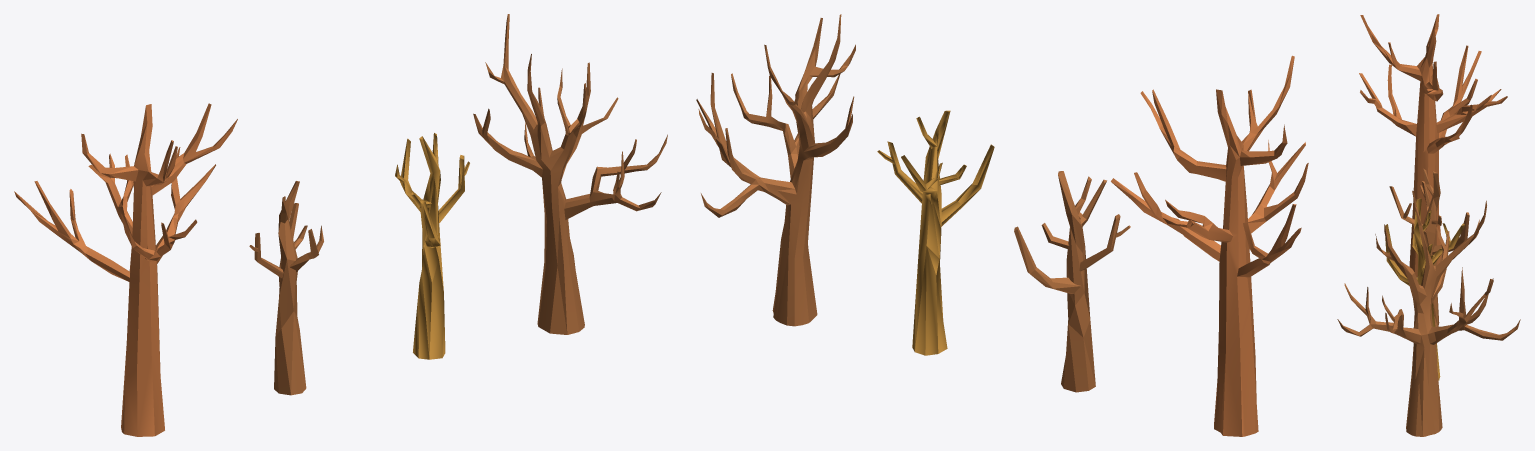
The model's file is trees_origin.glb.
3 renders of one model, left to right at view 1: azimuth 30°, elevation 25°; view 2: azimuth 150°, elevation 25°; view 3: azimuth 270°, elevation 25°, orthographic. The views are drawn at different scales.
Parts seen in each view (by area): view 1: tree3, tree2, tree4, tree1; view 2: tree3, tree2, tree4, tree1; view 3: tree2, tree3, tree1, tree4.
Part boxes in pixels (bbox=[...]): tree3: bbox=[14, 103, 237, 436]; tree2: bbox=[473, 14, 667, 334]; tree4: bbox=[395, 133, 469, 359]; tree1: bbox=[249, 181, 323, 395]; tree3: bbox=[1111, 55, 1308, 436]; tree2: bbox=[696, 14, 855, 326]; tree4: bbox=[877, 110, 994, 355]; tree1: bbox=[1014, 171, 1130, 392]; tree2: bbox=[1337, 190, 1520, 436]; tree3: bbox=[1359, 14, 1507, 277]; tree1: bbox=[1389, 168, 1469, 326]; tree4: bbox=[1385, 198, 1464, 380].
Bounding box in the file's own units: 13.75 × 7.1 × 4.69.
